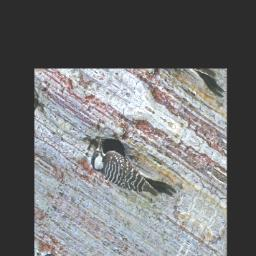Woodpecker: (84, 134, 179, 221)
